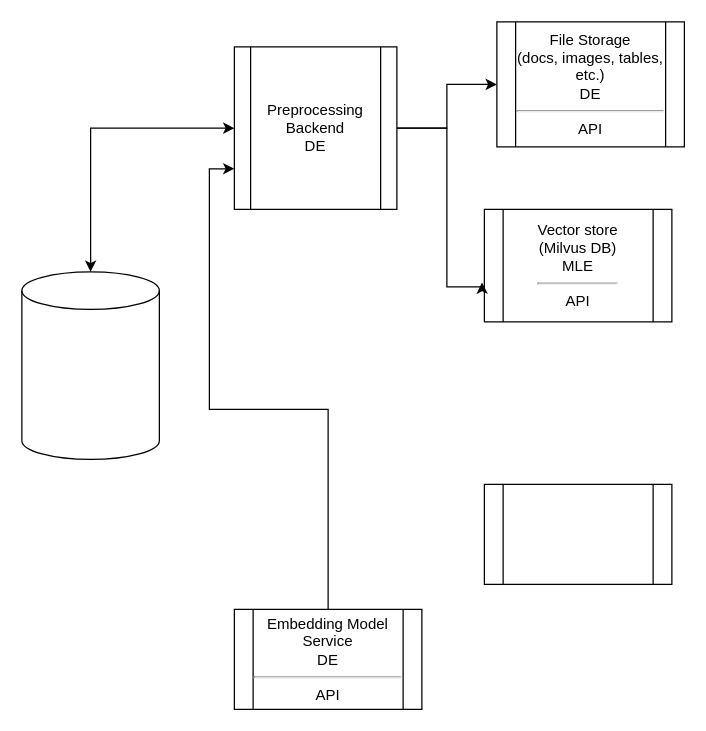
Image size: 706x731. Some labels were removed from this diagram. Each missing label, with the centre of its shape:
"Landing Zone" belongs at (90,365).
"LLM Service MLE API" belongs at (577,533).
